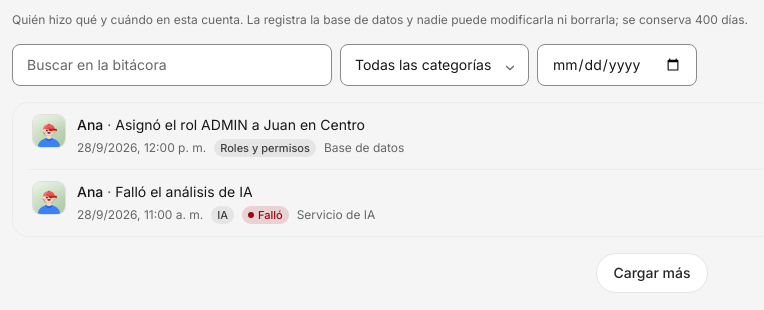
bitácora › muestra quién, qué y dónde, marca los fallos y pagina con cursor
expect the text "Ana · Asignó el rol ADMIN a Juan en Centro" is shown: met, box [77,116,365,133]
expect the text "Falló" is shown: met, box [242,206,289,224]
Click the button "Cargar más" at (652, 273), box [596,253,708,293]
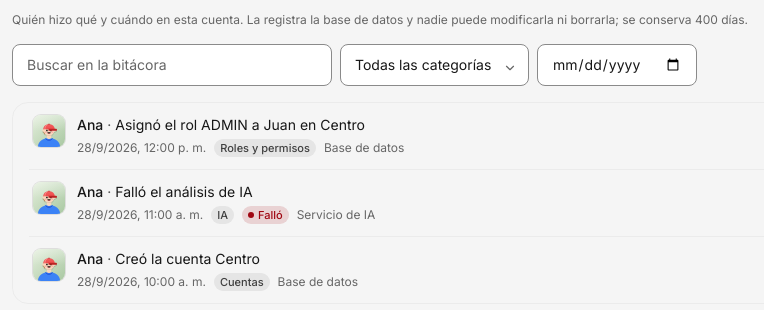
expect the text "Ana · Creó la cuenta Centro" is shown: met, box [77,250,260,267]
expect the button "Cargar más" is gone: met
